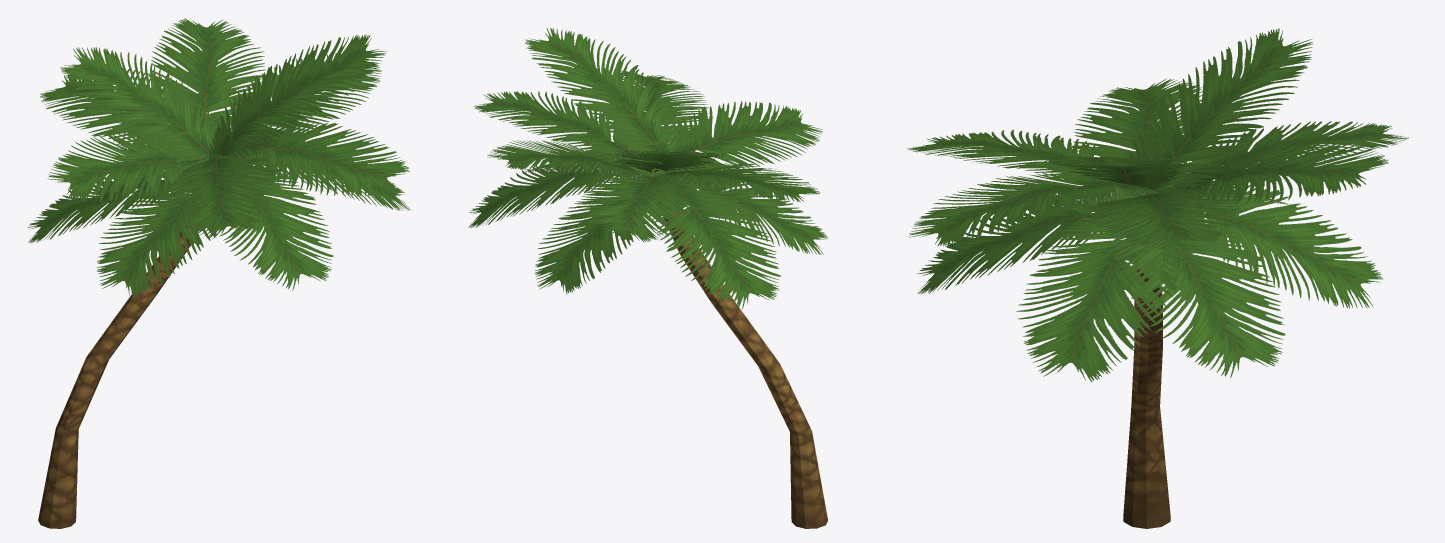
Rendered from Palm Tree Bend.fbx.
The picture shows the model from 3 angles, left to right: view 1: azimuth 30°, elevation 25°; view 2: azimuth 150°, elevation 25°; view 3: azimuth 270°, elevation 25°; orthographic projection. The views are drawn at different scales.
Parts seen in each view (by area): view 1: group1_pasted__group_pPlane1, pCylinder2; view 2: group1_pasted__group_pPlane1, pCylinder2; view 3: group1_pasted__group_pPlane1, pCylinder2.
Boxes of the visible parts, x1=… form: group1_pasted__group_pPlane1: x1=27, y1=18, x2=412, y2=297; pCylinder2: x1=38, y1=194, x2=199, y2=528; group1_pasted__group_pPlane1: x1=468, y1=28, x2=828, y2=309; pCylinder2: x1=659, y1=198, x2=827, y2=528; group1_pasted__group_pPlane1: x1=907, y1=28, x2=1408, y2=382; pCylinder2: x1=1123, y1=269, x2=1170, y2=528.
Bounding box in the file's own units: 0.1463 × 0.1646 × 0.1511.
Materials: 15 (15 with a texture image).
